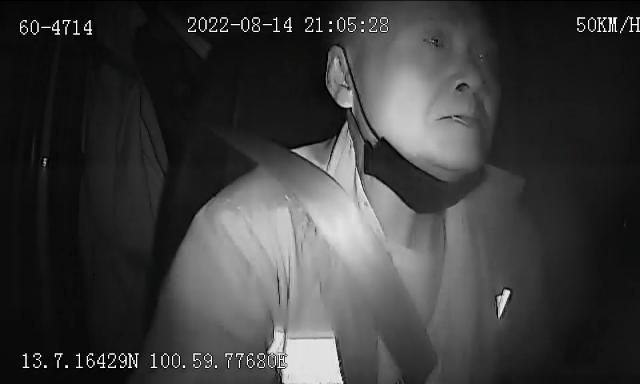SafeDriving: (415, 20, 455, 58)
Seatbelt: (186, 66, 484, 384)
